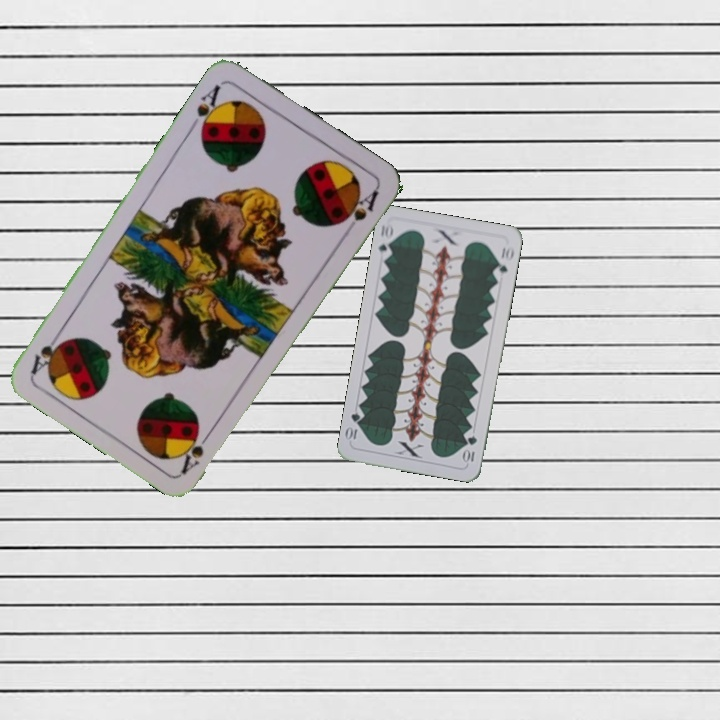G10: (374, 220, 396, 261), (460, 431, 479, 466)
SA: (177, 424, 217, 477), (192, 80, 226, 138)
